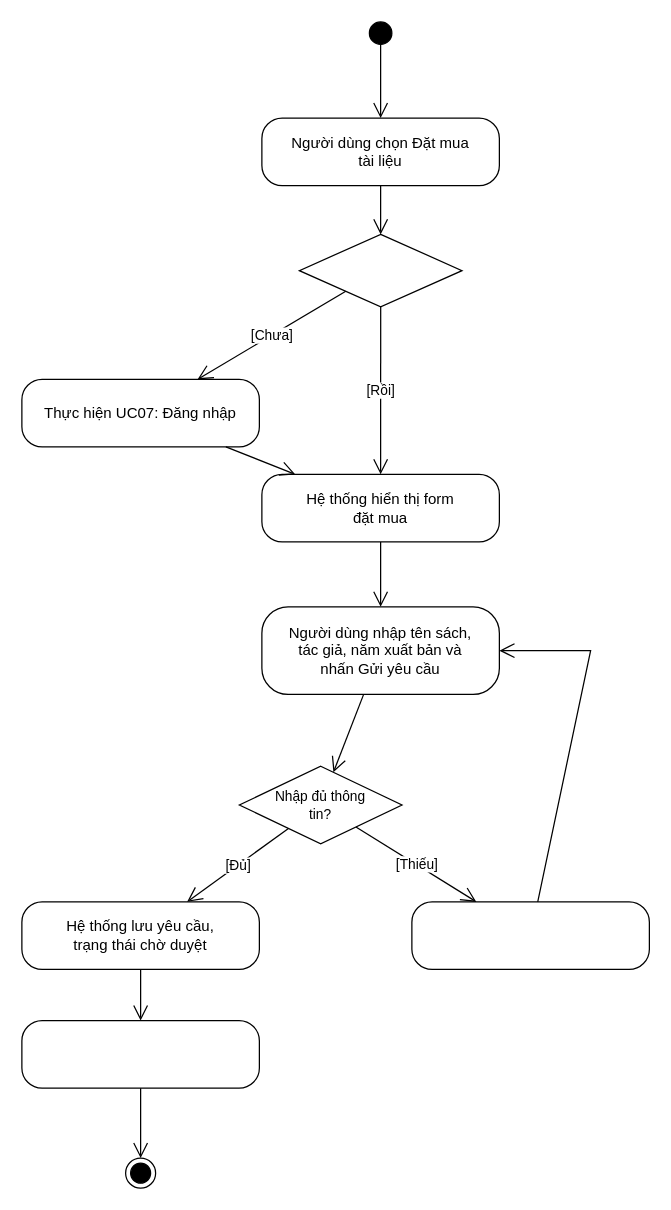
Some shapes in this 671 by 1210 pixel diagram are drawn without their labels. Here are the shapes that lost their labels. From the top down, the centre of each, then its label:
(380,270): Đã đăng nhập?
(530,935): Hệ thống thông báo thiếu thông tin
(140,1053): Hệ thống thông báo gửi yêu cầu thành công
